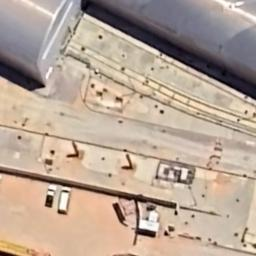pickup: (44, 184, 56, 208)
van: (58, 186, 72, 214)
